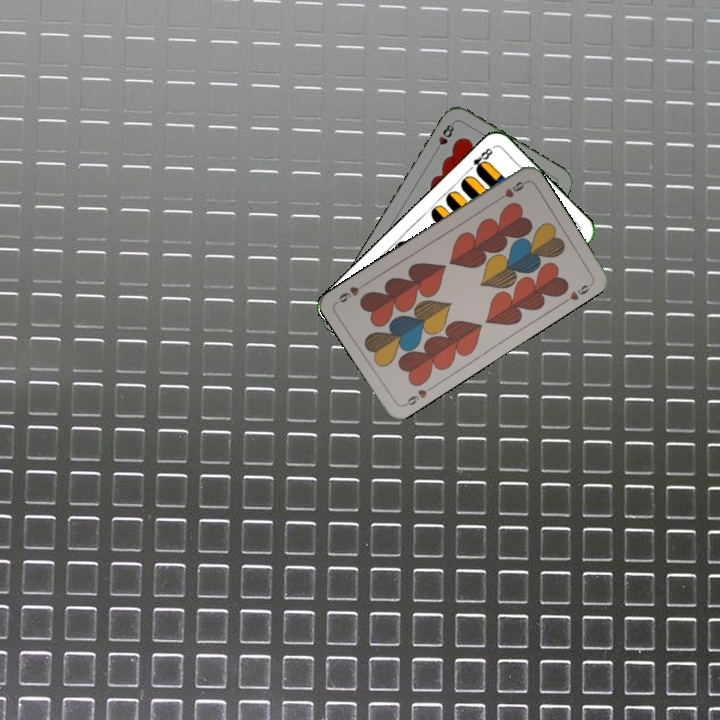E8: (464, 144, 495, 177)
H8: (431, 118, 457, 155)
H9: (492, 177, 528, 205), (400, 382, 436, 409)
